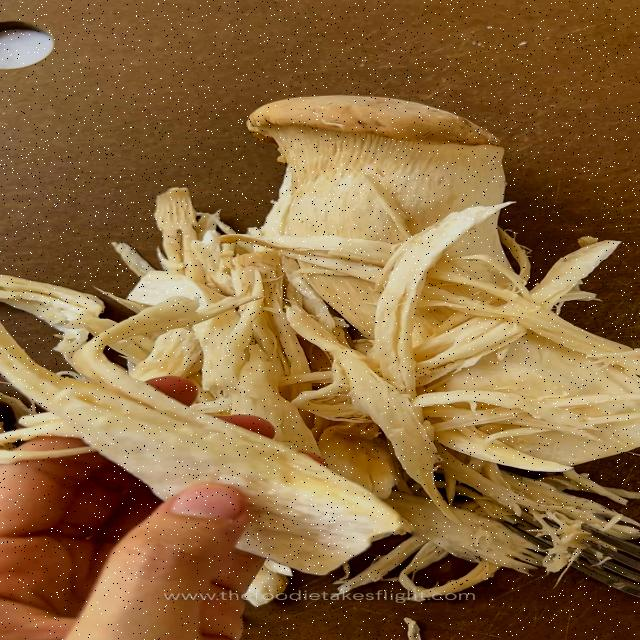Mushroom: (1, 73, 614, 566)
